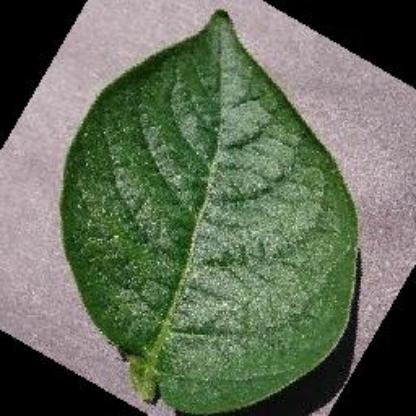Healthy-plant: (36, 6, 390, 416)
